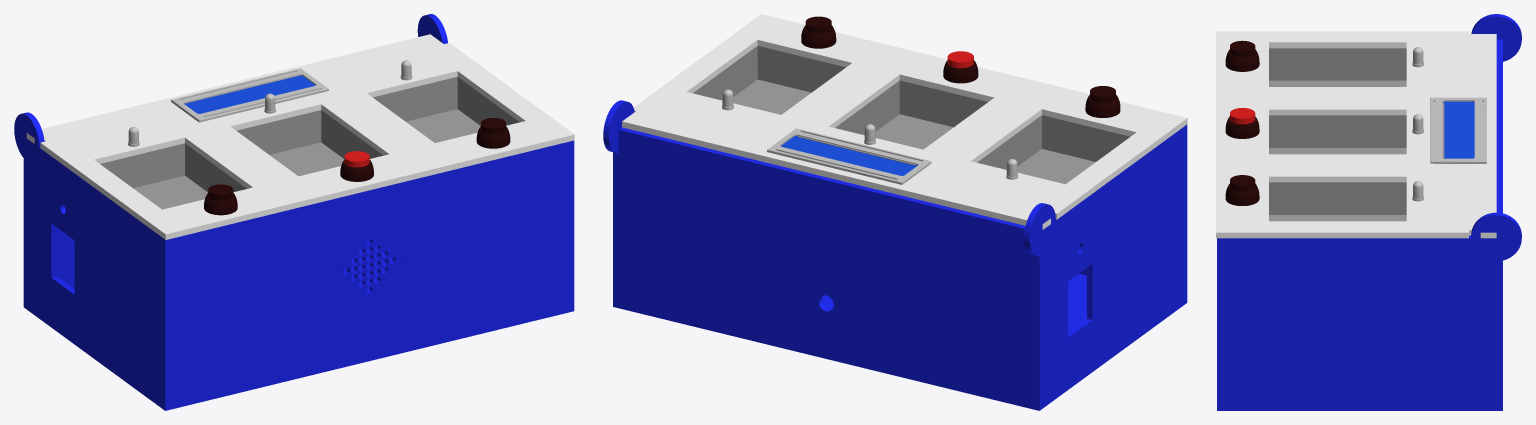
File: PillReminder 3d Box 2.glb
The picture shows the model from 3 angles, left to right: view 1: azimuth 30°, elevation 25°; view 2: azimuth 150°, elevation 25°; view 3: azimuth 270°, elevation 25°; orthographic projection. The views are drawn at different scales.
Parts seen in each view (by area): view 1: Body1_13, Body1_16, Body1_15, Display+LCD+16X2, Body1_7, Body1_27, Body1_4, Body1_14, Body1_20, Body1_2, Body1_6, Body1_26 (+9 smaller); view 2: Body1_10, Body1_16, Body1_15, Body1_14, Display+LCD+16X2, Body1_9, Body1_24, Body1_1, Body1_20, Body1_6, Body1_2, Body1_26 (+8 smaller); view 3: Body1_12, Body1_16, Body1, Body1_5, Body1_23, Display+LCD+16X2, Body1_10, Body1_20, Body1_17, Body1_14, Body1_2, Body1_6 (+7 smaller).
Part boxes in pixels (x1,y1,x2,y2): Body1_13: (162, 142, 574, 405); Body1_16: (26, 34, 574, 239); Body1_15: (14, 112, 170, 402); Display+LCD+16X2: (171, 68, 328, 122); Body1_7: (236, 110, 321, 154); Body1_27: (373, 77, 457, 121); Body1_4: (100, 143, 184, 187); Body1_14: (23, 239, 574, 410); Body1_20: (184, 75, 315, 113); Body1_2: (133, 175, 207, 209); Body1_6: (270, 142, 344, 176); Body1_26: (406, 109, 480, 142); Body1_10: (613, 127, 1042, 404); Body1_16: (622, 14, 1187, 229); Body1_15: (1024, 124, 1187, 402); Body1_14: (613, 273, 1187, 410); Display+LCD+16X2: (767, 128, 931, 184); Body1_9: (899, 80, 987, 127); Body1_24: (757, 46, 845, 92); Body1_1: (1042, 115, 1129, 161); Body1_20: (780, 136, 917, 175); Body1_6: (875, 114, 953, 149); Body1_2: (1017, 149, 1095, 184); Body1_26: (733, 79, 811, 114); Body1_12: (1217, 212, 1521, 410); Body1_16: (1216, 31, 1496, 238); Body1: (1269, 48, 1406, 80); Body1_5: (1269, 115, 1406, 147); Body1_23: (1269, 182, 1406, 214); Display+LCD+16X2: (1430, 97, 1486, 163); Body1_10: (1496, 39, 1502, 405); Body1_20: (1443, 101, 1474, 158); Body1_17: (1477, 220, 1515, 255); Body1_14: (1217, 405, 1502, 410); Body1_2: (1269, 80, 1406, 86); Body1_6: (1269, 148, 1406, 154).
Bounding box in the file's own units: 0.225 × 0.1027 × 0.1444.
